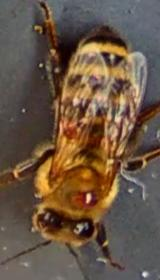varroa_mite: (61, 119, 88, 146), (78, 185, 106, 206)
